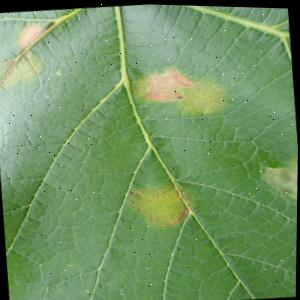Folha: (0, 0, 300, 300)
Fungo: (130, 61, 228, 121), (122, 177, 195, 231), (173, 74, 228, 117), (139, 63, 195, 103), (0, 49, 46, 94), (15, 22, 46, 49)
